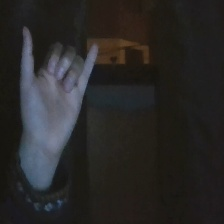Y: (11, 21, 109, 166)
